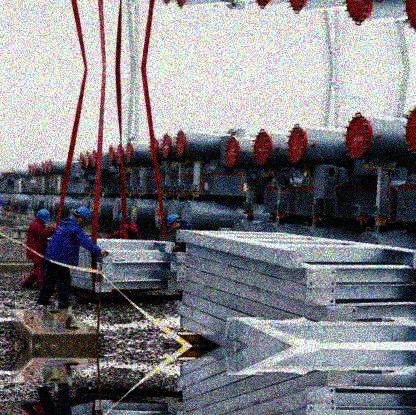helmet: (73, 208, 95, 229), (35, 206, 54, 224), (166, 214, 184, 230)
